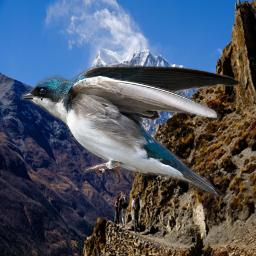Swallow: (20, 62, 243, 199)
